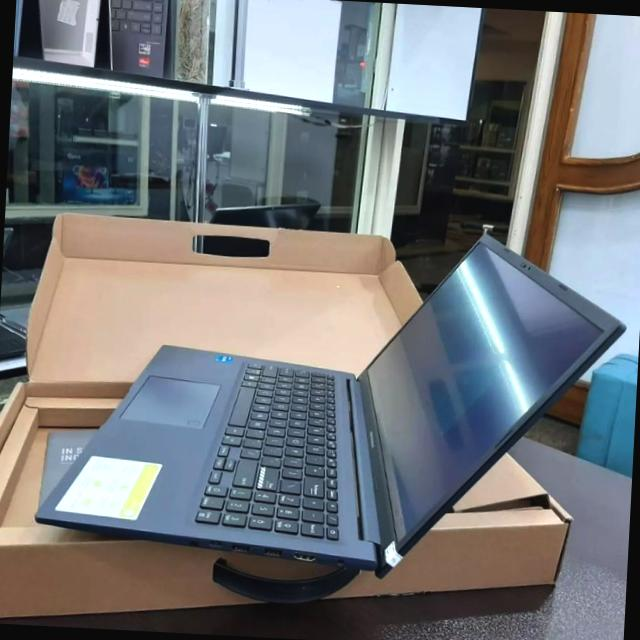laptop: (24, 192, 632, 582)
